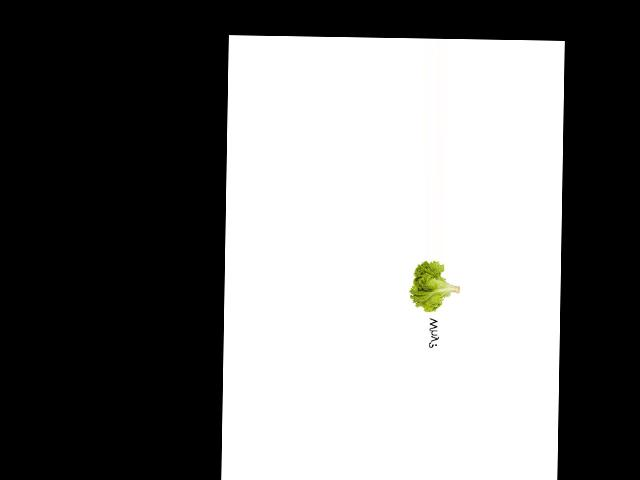lettuce: (408, 259, 461, 317)
